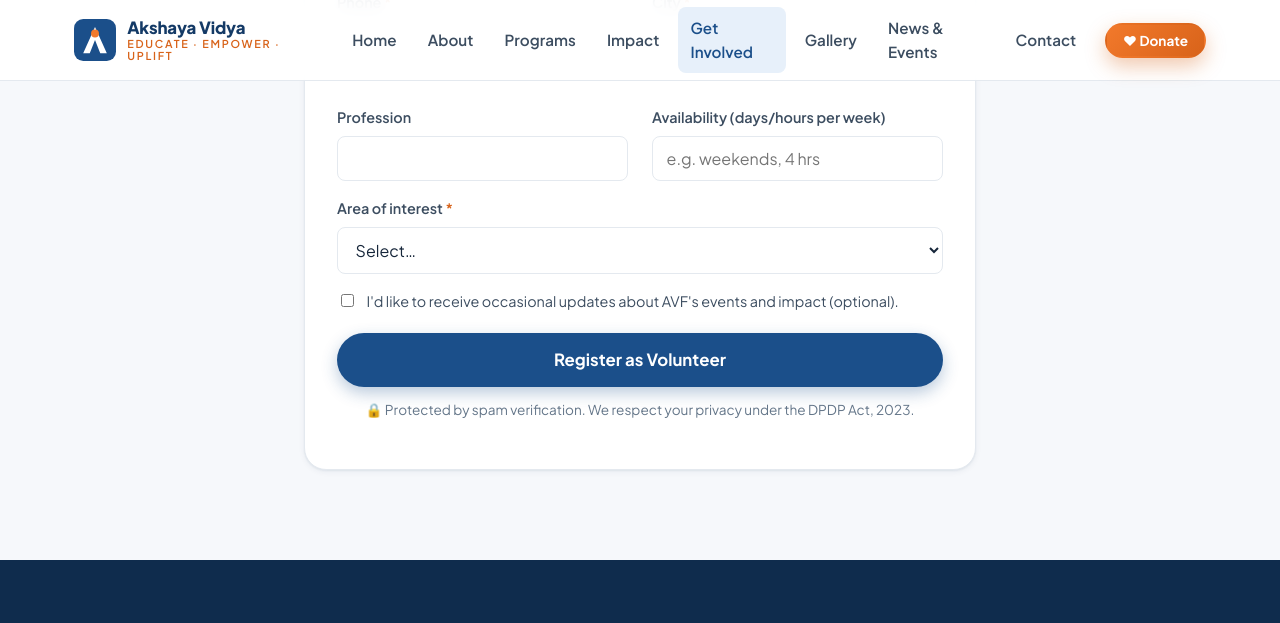
Test: Get Involved page › shows validation errors when submitting an empty form (VOL-01)
(page scrolled)
Click the button "Register as Volunteer" at (640, 360), box [337,333,943,387]
(page scrolled)
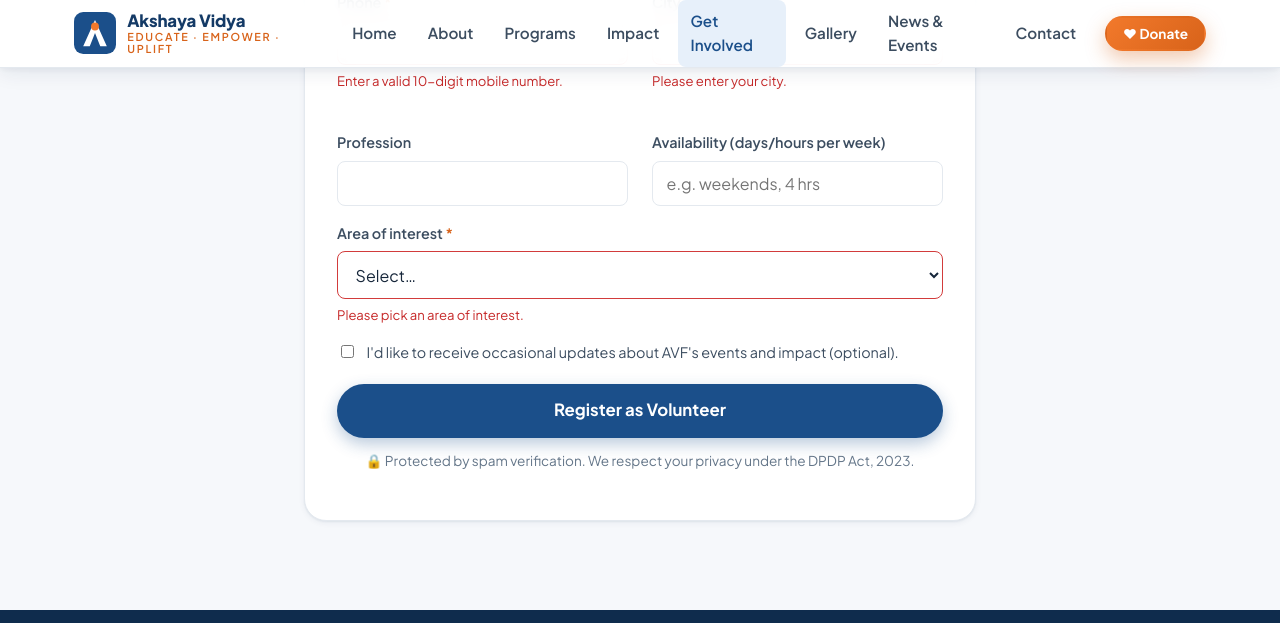
Now the text "Please pick an area of interest." is shown, box [337,306,524,322]
